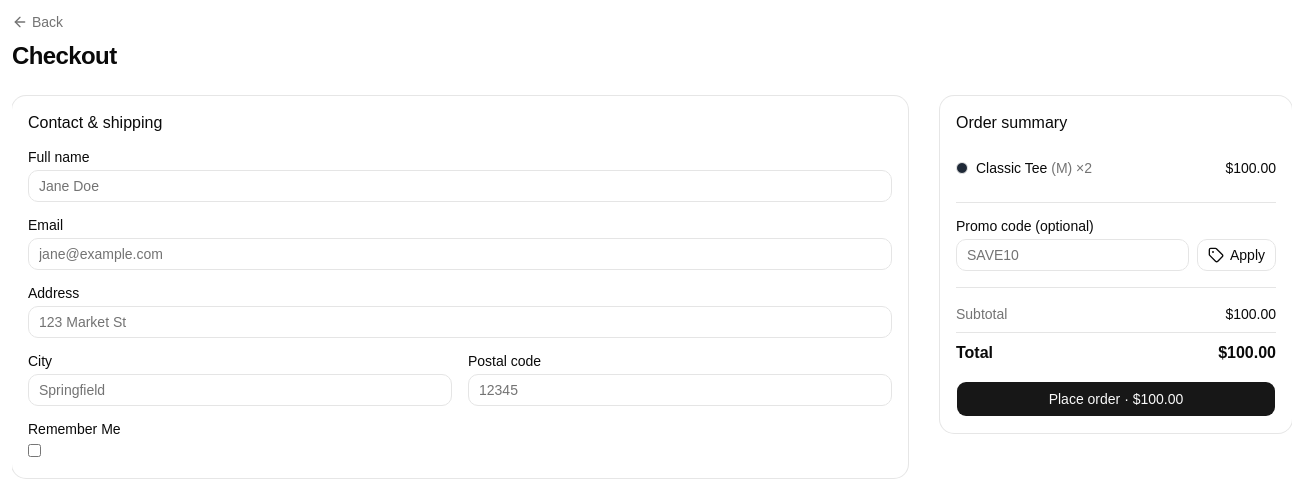
Test case: CheckoutPage › rejects an invalid promo code
Step 1. Type "BOGUS" into the field with placeholder "SAVE10" → (1072, 255), box [956,239,1189,271]
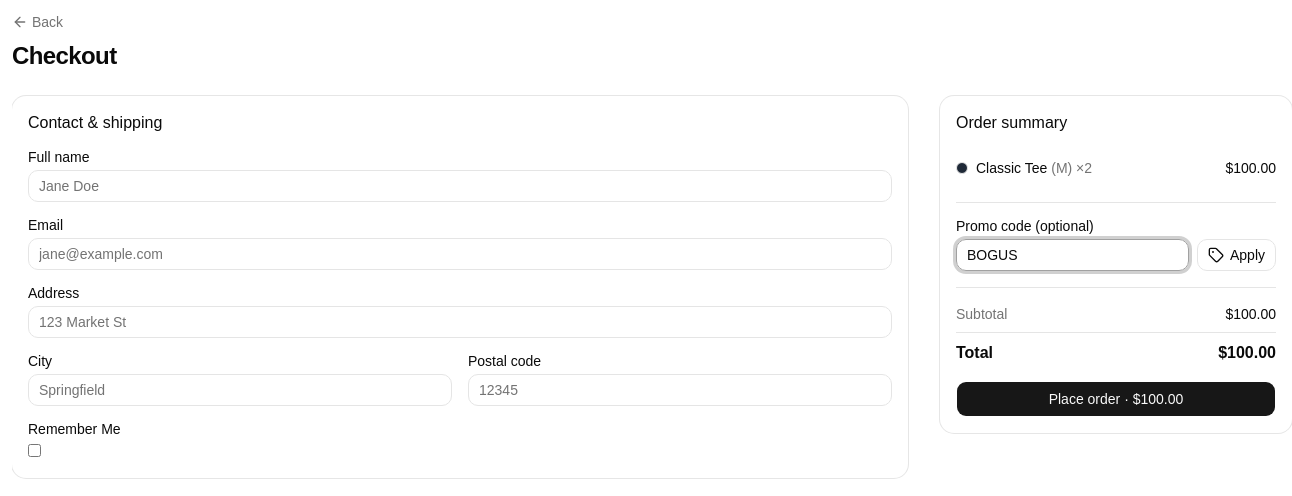
Step 2. Click the button "Apply" → (1236, 255), box [1197,239,1276,271]
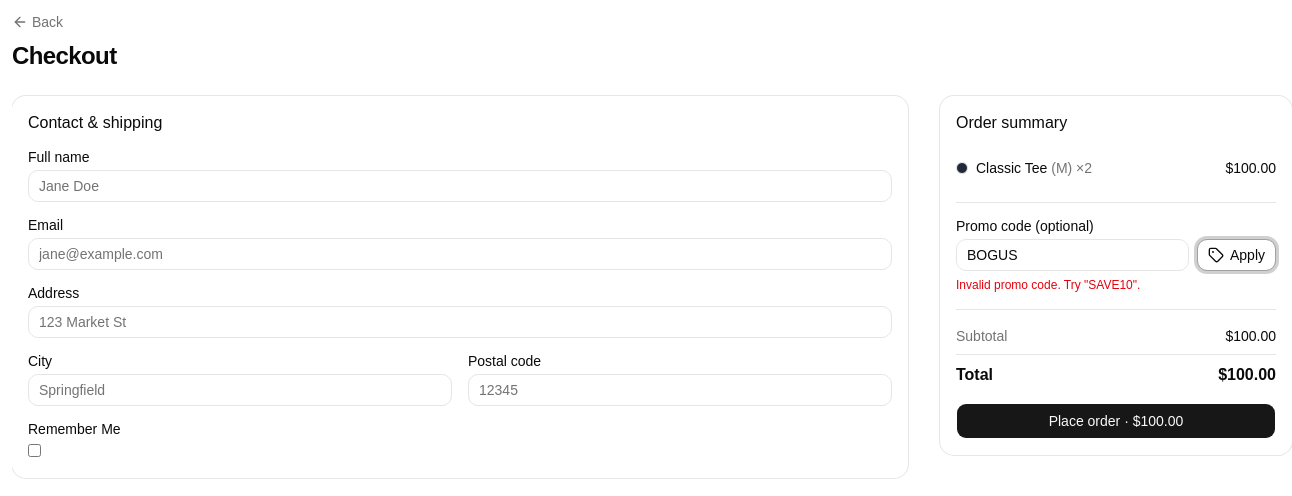
Check: the text "Invalid promo code. Try \"SAVE10\"." is shown, box [956,278,1140,292]
